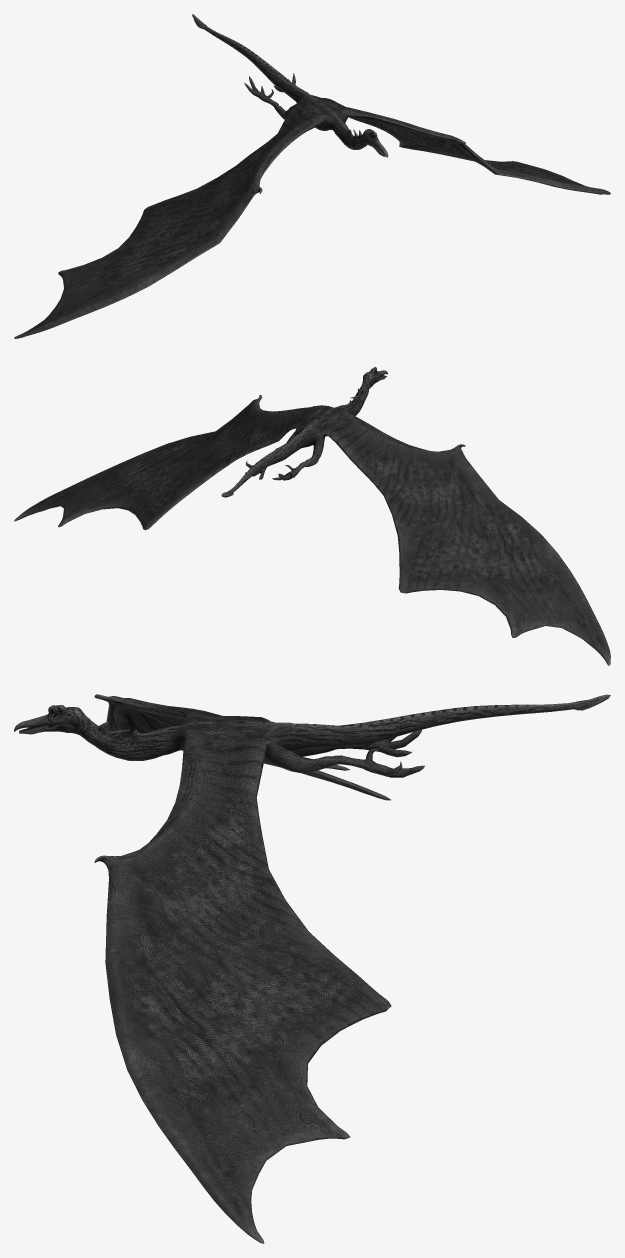
Rendered from Fellbeast_FlyAnim_22.obj.
3 views of the same model, one above another, from view 1: azimuth 30°, elevation 25°; view 2: azimuth 150°, elevation 25°; view 3: azimuth 270°, elevation 25° (orthographic). The views are drawn at different scales.
Parts seen in each view (by area): view 1: Fellbeast; view 2: Fellbeast; view 3: Fellbeast.
Boxes of the visible parts, left/top/right/bottom form: Fellbeast: left=14, top=14, right=610, bottom=338; Fellbeast: left=14, top=367, right=610, bottom=665; Fellbeast: left=14, top=694, right=610, bottom=1243.
Bounding box in the file's own units: 8.35 × 2.42 × 4.38.
